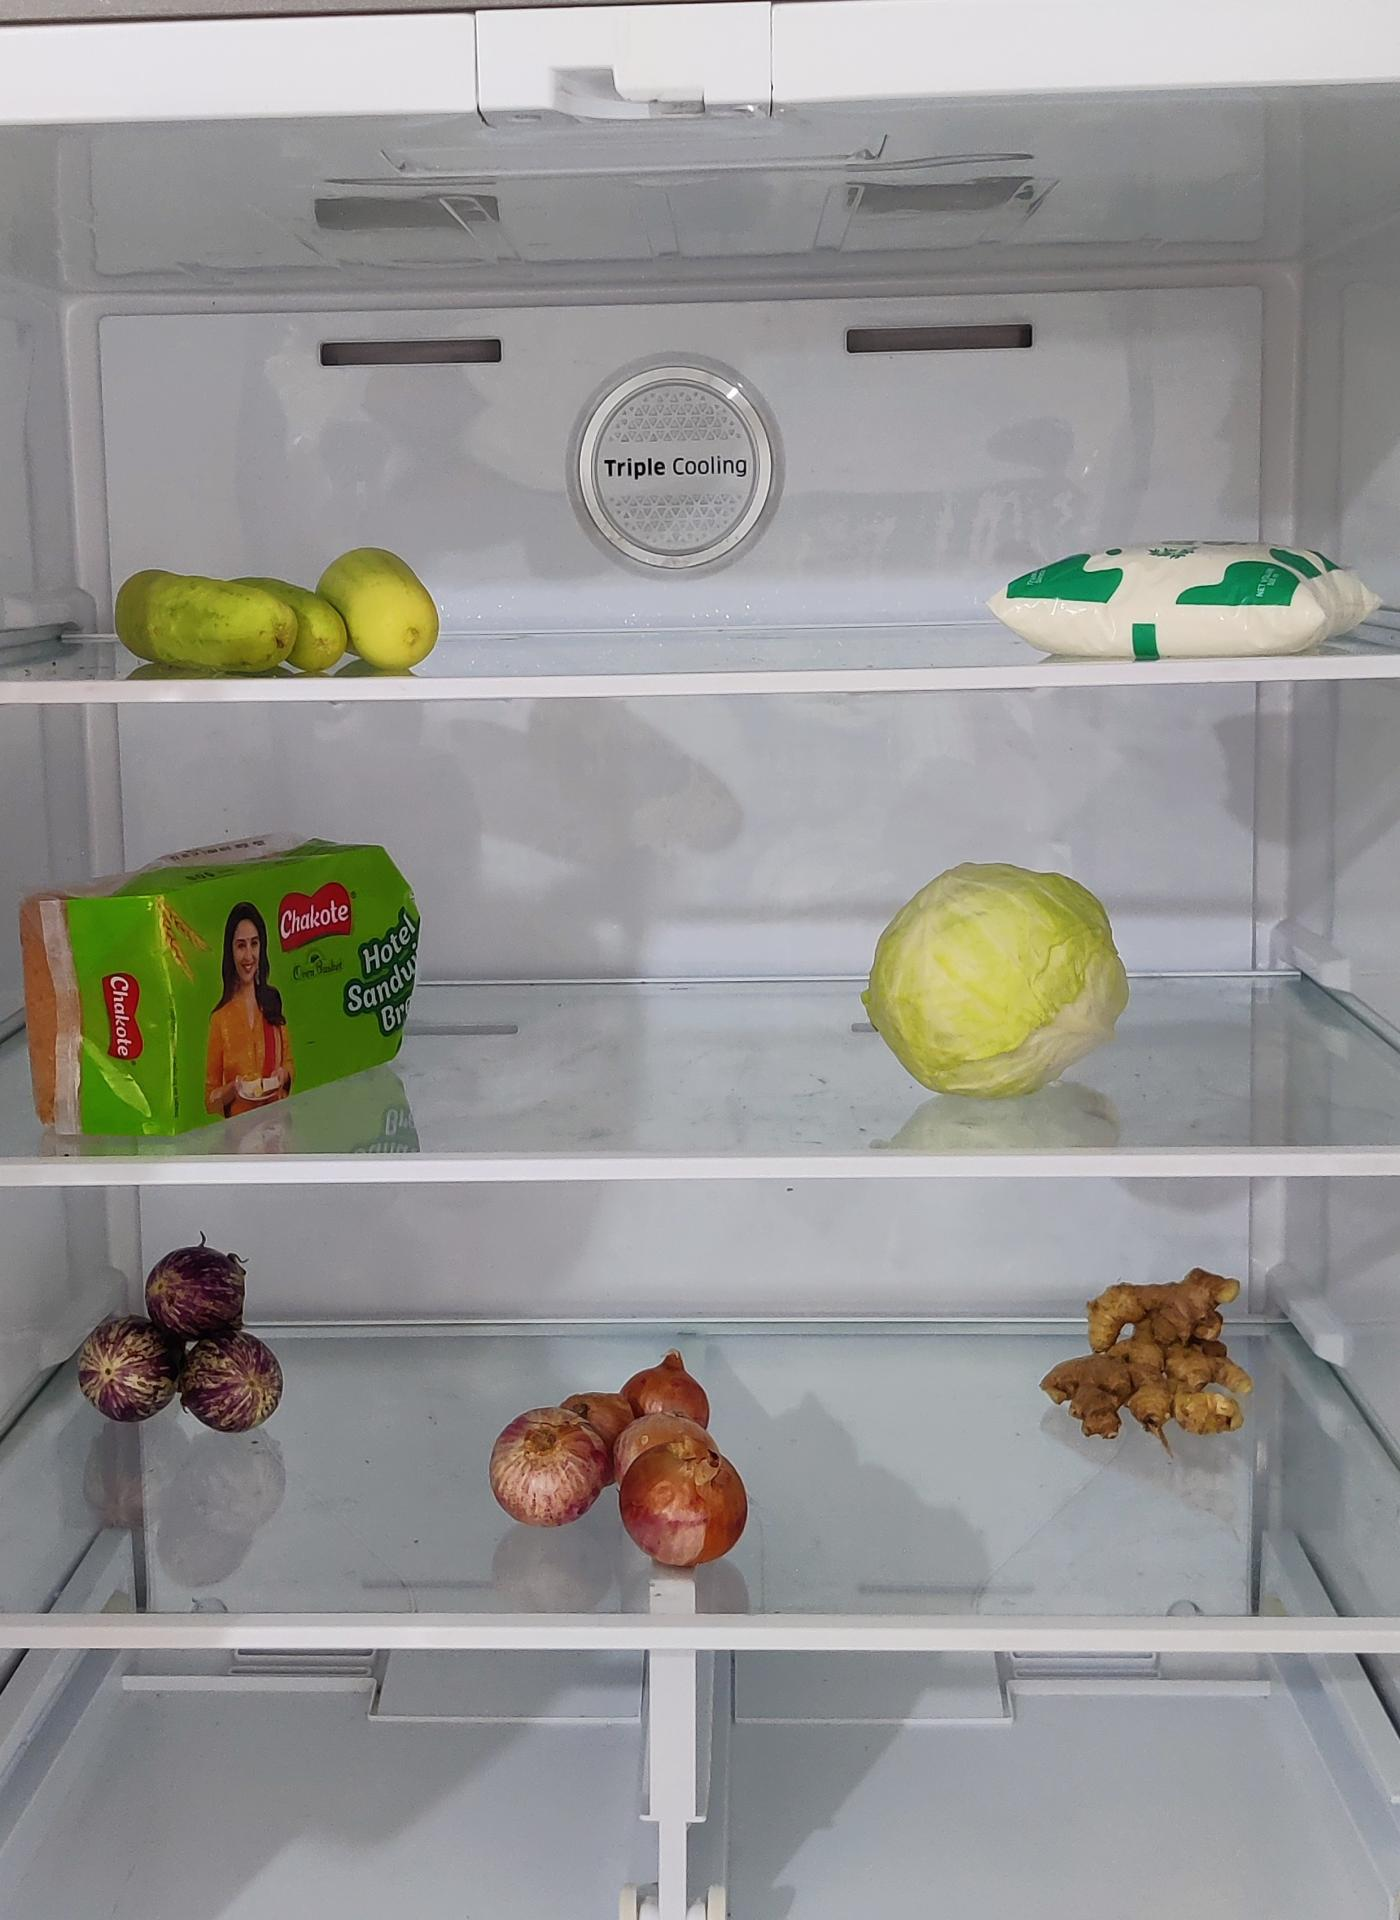bread: (13, 844, 428, 1142)
brinjal: (79, 1242, 288, 1439)
cabbage: (860, 866, 1127, 1103)
cucumber: (115, 553, 446, 678)
ginger: (1035, 1266, 1254, 1441)
milk: (991, 535, 1390, 666)
onion: (489, 1351, 753, 1568)
